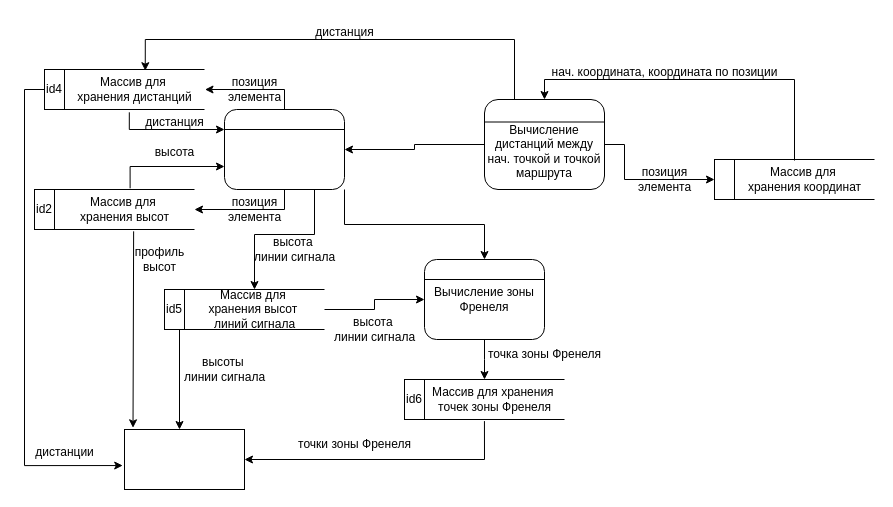
Some shapes in this 893 by 507 pixel diagram are drawn without their labels. The shapes that lost their labels are listed below. From the top down, each one's centre as x and y in pixels, then its label:
pixel 284 149: Вычисление высоты линии сигнала
pixel 724 179: id1
pixel 184 459: модуль построения радиотрассы
